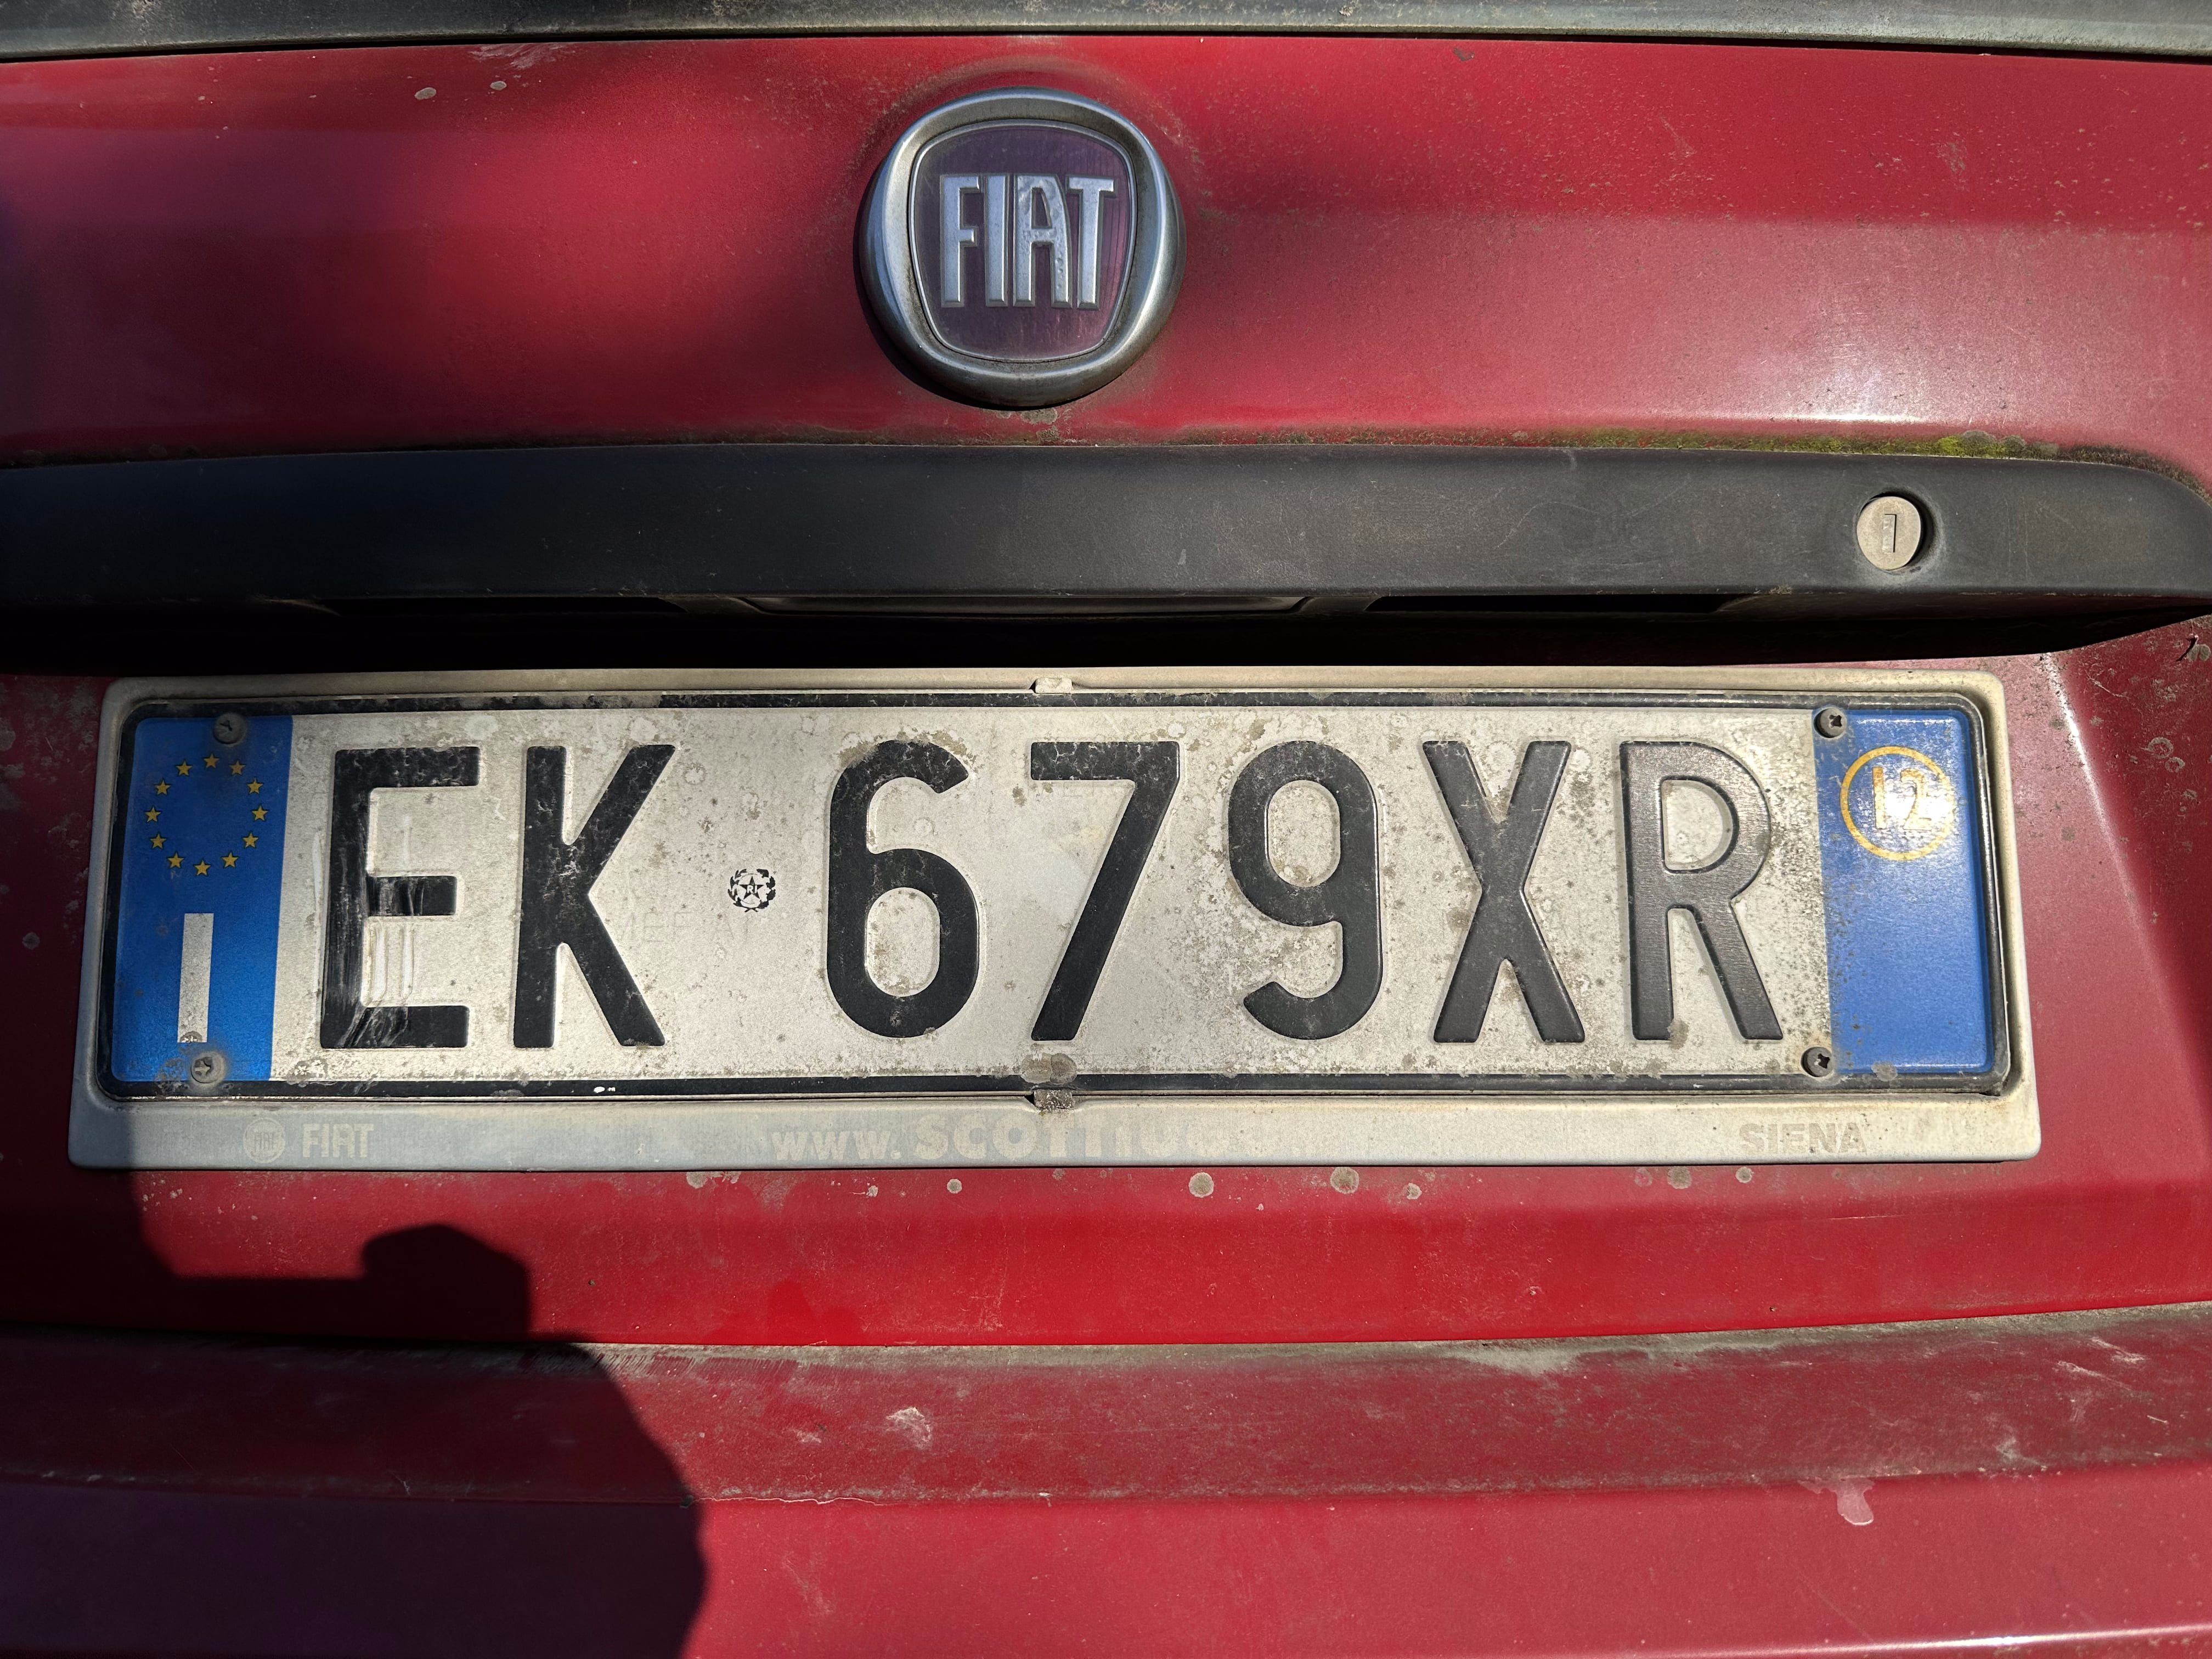license-plate: (95, 687, 2022, 1098)
